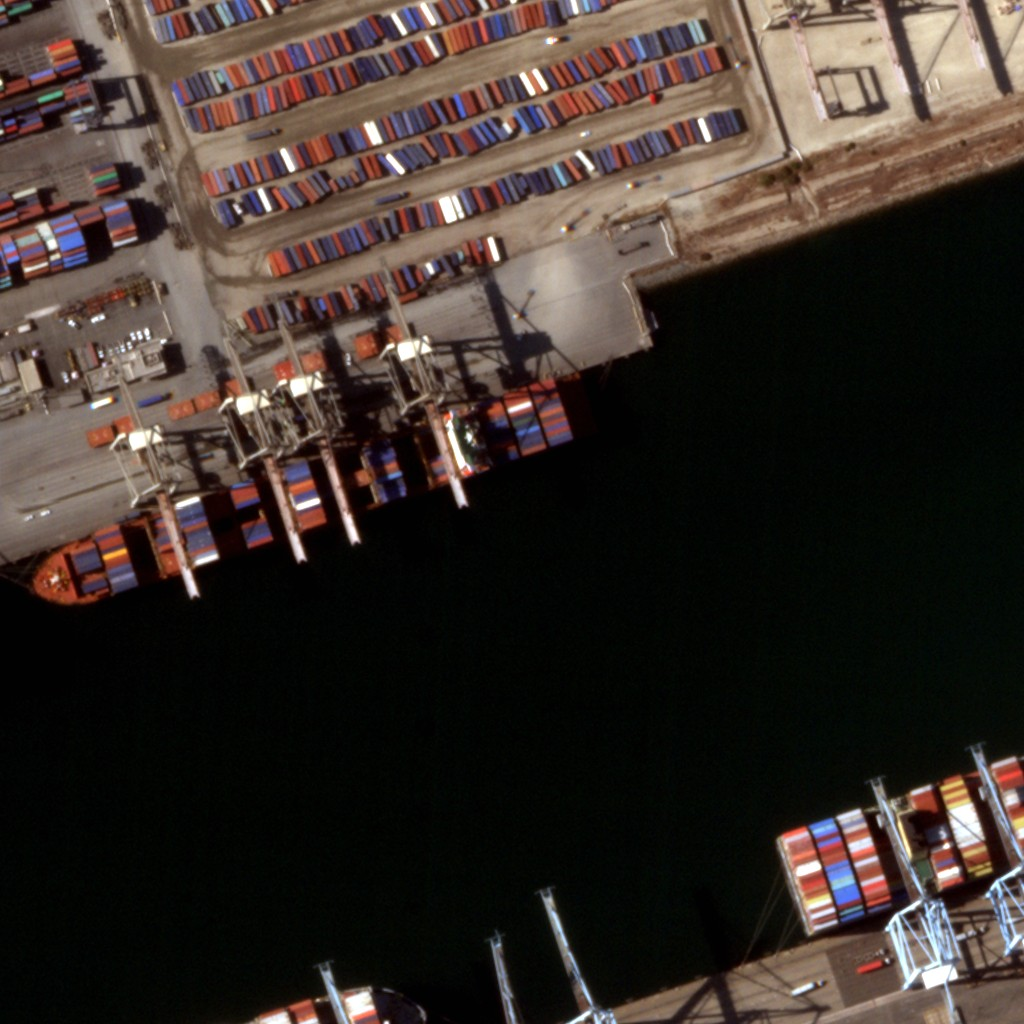boats: (32, 382, 573, 603), (779, 753, 1019, 931)
cranes: (104, 400, 205, 609), (378, 323, 483, 512), (875, 777, 965, 995), (222, 366, 314, 576), (280, 366, 368, 552)
